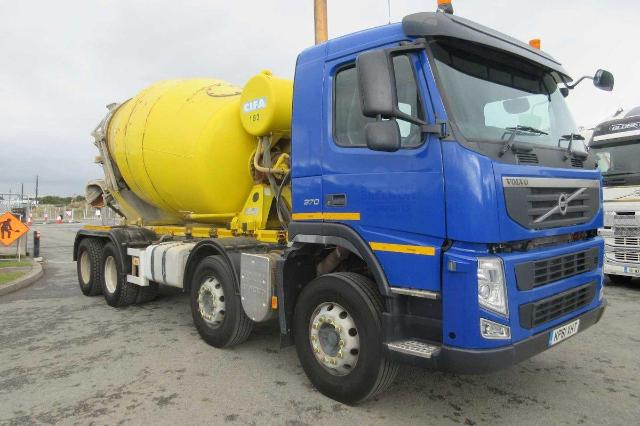truck: (44, 10, 614, 411)
